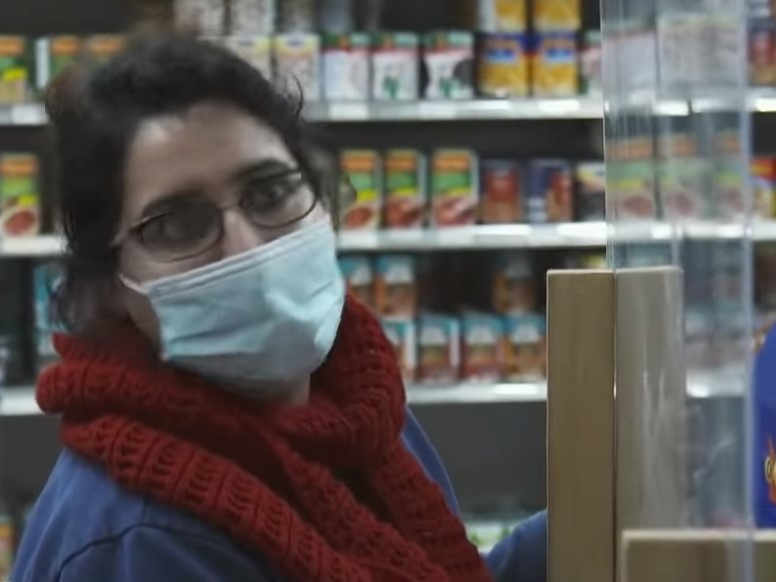face_with_mask: (91, 62, 352, 399)
